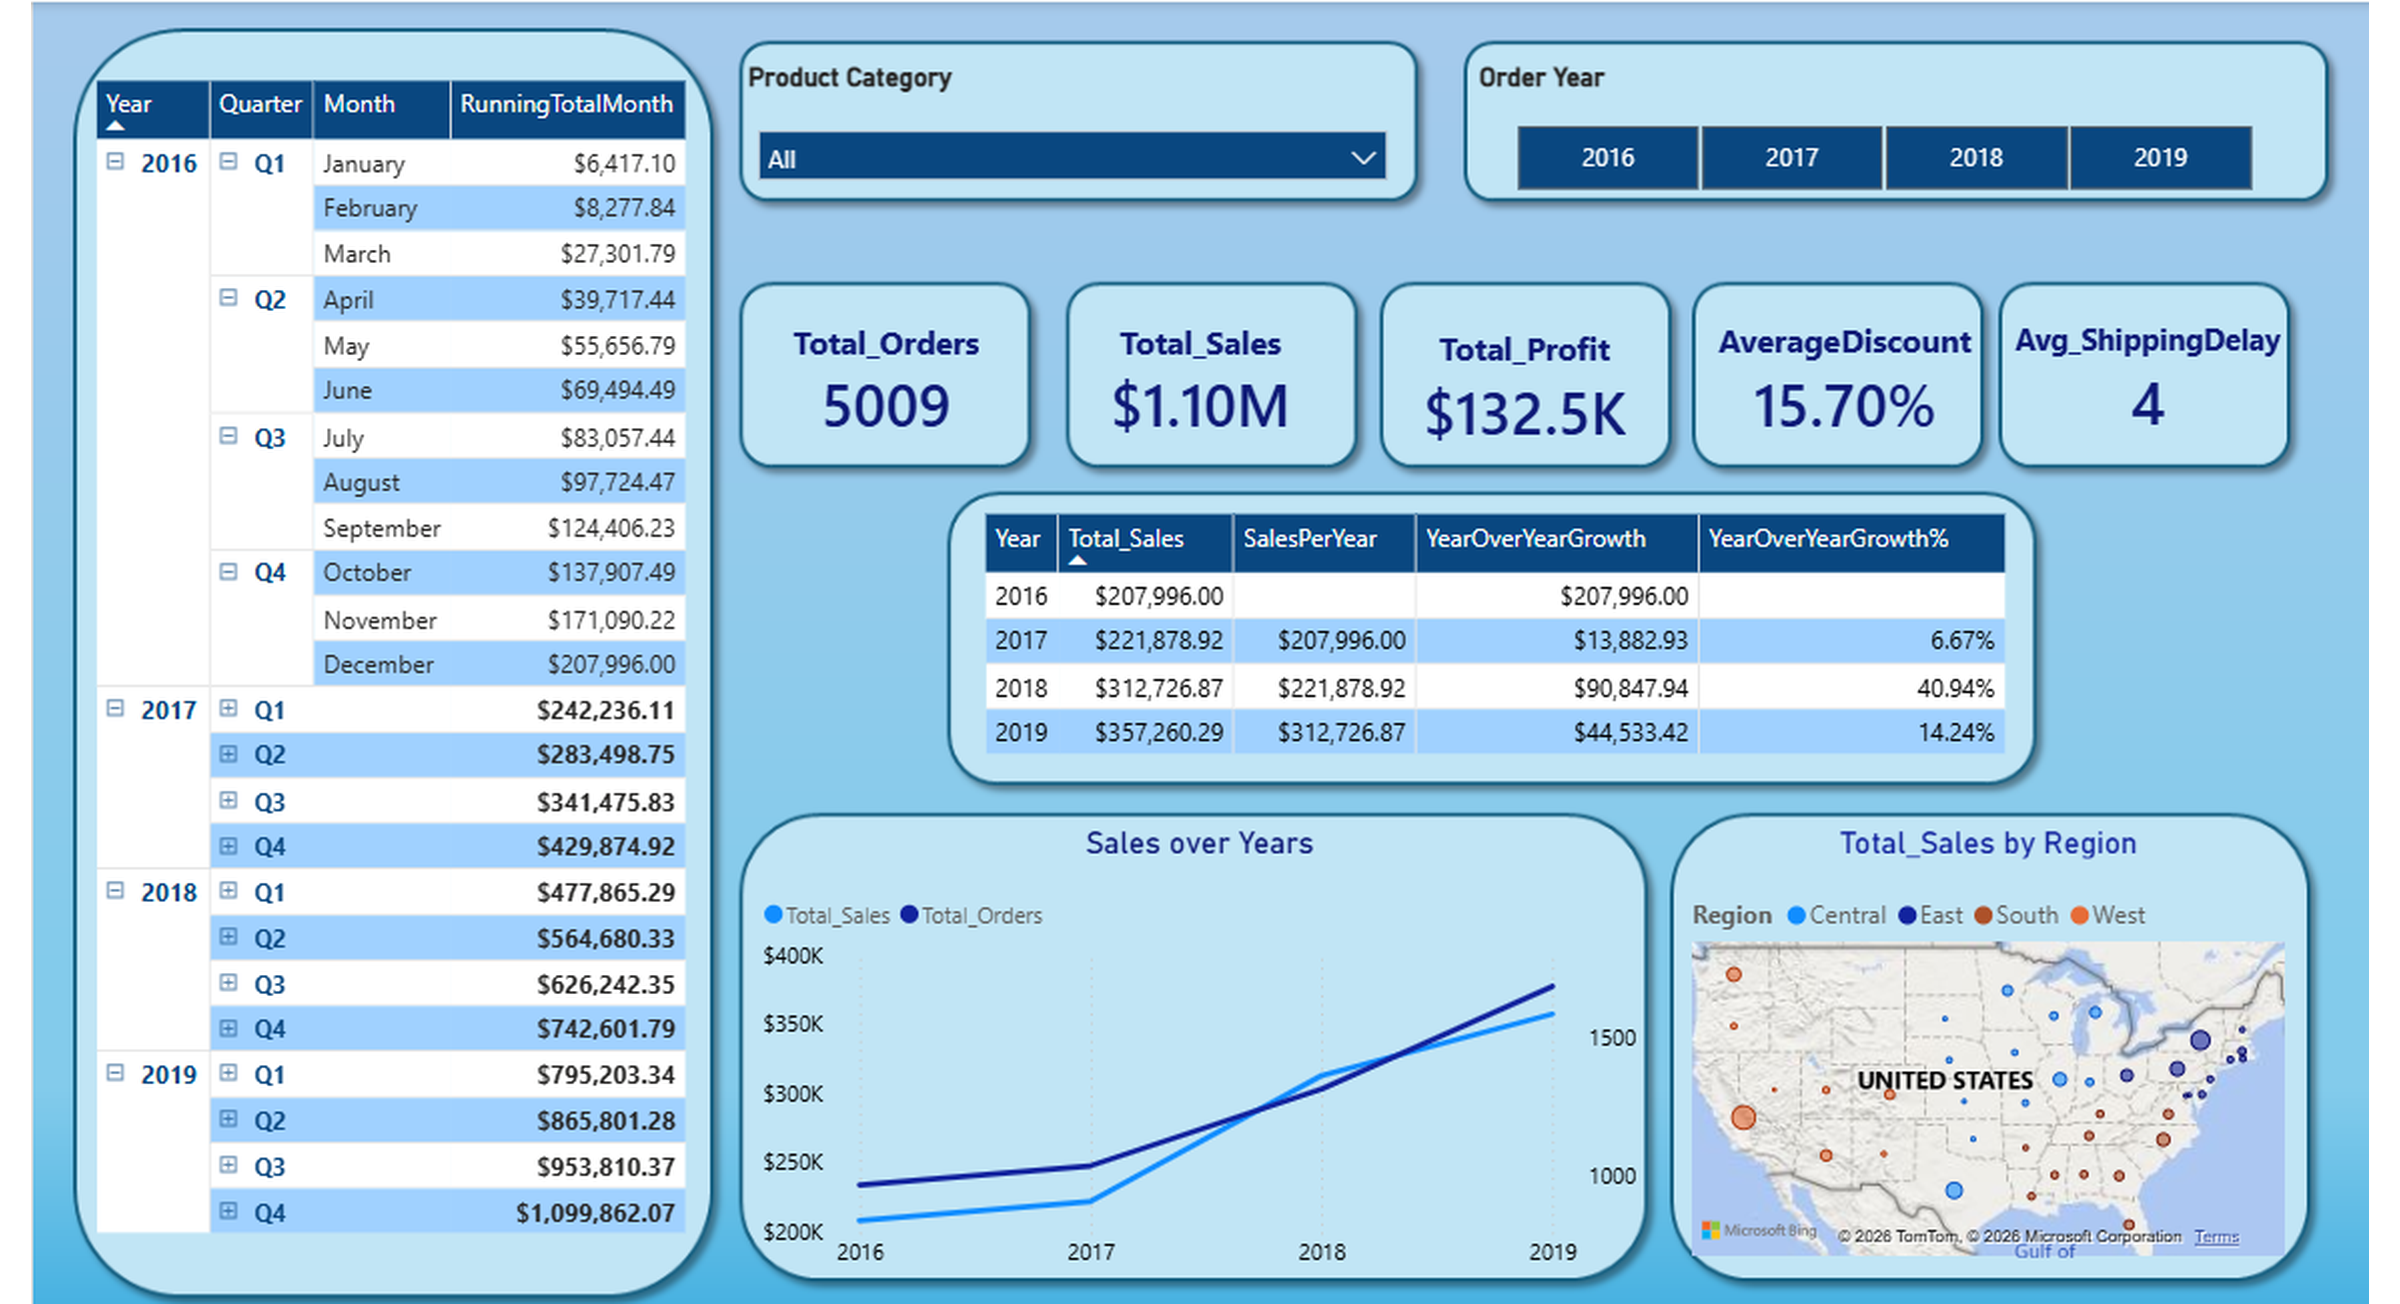

Layout of this report page (visuals, bound fields, positions):
{"tool":"powerbi","page":{"name":"Executive Analysis","canvas":[1280,720],"ordinal":0},"visuals":[{"type":"pivotTable","fields":{"Rows":["OrdersDateTable.Year","OrdersDateTable.Quarter","OrdersDateTable.Month"],"Values":["Measures (2).RunningTotalMonth"]},"box":[29.9,38.5,356.3,654.3],"z":0},{"type":"cardVisual","fields":{"Data":["Measures (2).Total_Orders"]},"box":[386.3,138.3,161.1,138.3],"z":1000},{"type":"cardVisual","fields":{"Data":["Measures (2).Total_Sales"]},"box":[530.2,149.7,220.9,116.9],"z":2000},{"type":"cardVisual","fields":{"Data":["Measures (2).Total_Profit"]},"box":[731.2,141.1,172.5,141.1],"z":3000},{"type":"cardVisual","fields":{"Data":["Measures (2).AverageDiscount"]},"box":[886.6,156.8,213.8,102.6],"z":4000},{"type":"cardVisual","fields":{"Data":["Measures (2).AverageShippingDelay"]},"box":[1039.1,146.8,240.9,119.7],"z":5000},{"type":"slicer","title":"Order Year","fields":{"Values":["OrdersDateTable.Year"]},"box":[788.2,32.8,451.8,77],"z":6000},{"type":"slicer","title":"Product Category","fields":{"Values":["Orders.Category","Orders.Sub-Category"]},"box":[386.3,32.8,364.9,88.4],"z":7000},{"type":"pivotTable","fields":{"Rows":["OrdersDateTable.Year"],"Values":["Measures (2).Total_Sales","Measures (2).SalesPerYear","Measures (2).YearOverYearGrowth","Measures (2).YearOverYearGrowth%"]},"box":[517.3,275.8,569.5,167.4],"z":8000},{"type":"lineChart","title":"Sales over Years","fields":{"Y":["Measures (2).Total_Sales"],"Y2":["Measures (2).Total_Orders"],"Category":["OrdersDateTable.Year"]},"box":[395.2,450.1,488.5,253.9],"z":9000},{"type":"map","title":"Total_Sales by Region","fields":{"Category":["People.State"],"Size":["Measures (2).Total_Sales"],"Series":["People.Region"]},"box":[904.3,450.1,334.8,242.9],"z":10000}]}

Visuals, with their boxes on the page's 1280x720 design canvas (x1, y1, x2, y2). These are canvas units, not pixel positions in the 2400x1304 screenshot, which may show the page scaled, cropped or inside an application window:
pivotTable - OrdersDateTable.Year x OrdersDateTable.Quarter: <box>30,38,386,693</box>
cardVisual - Measures (2).Total_Orders: <box>386,138,547,277</box>
cardVisual - Measures (2).Total_Sales: <box>530,150,751,267</box>
cardVisual - Measures (2).Total_Profit: <box>731,141,904,282</box>
cardVisual - Measures (2).AverageDiscount: <box>887,157,1100,259</box>
cardVisual - Measures (2).AverageShippingDelay: <box>1039,147,1280,266</box>
"Order Year" slicer: <box>788,33,1240,110</box>
"Product Category" slicer: <box>386,33,751,121</box>
pivotTable - OrdersDateTable.Year x Measures (2).Total_Sales: <box>517,276,1087,443</box>
"Sales over Years" lineChart: <box>395,450,884,704</box>
"Total_Sales by Region" map: <box>904,450,1239,693</box>
